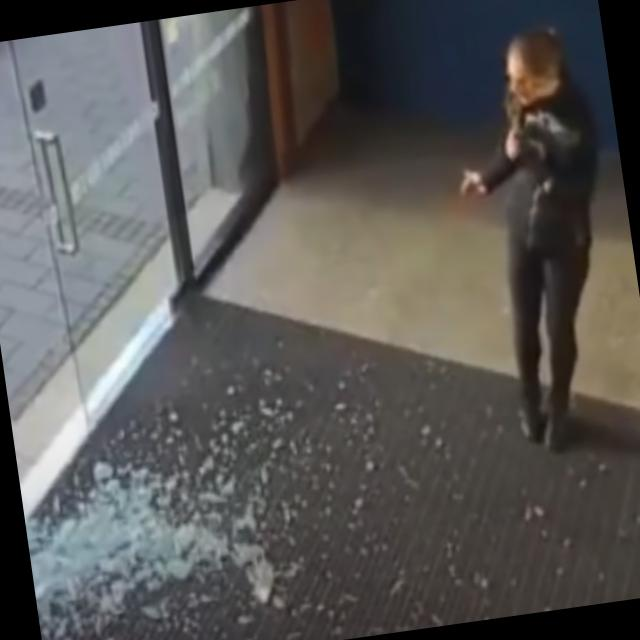person: (440, 20, 640, 461)
